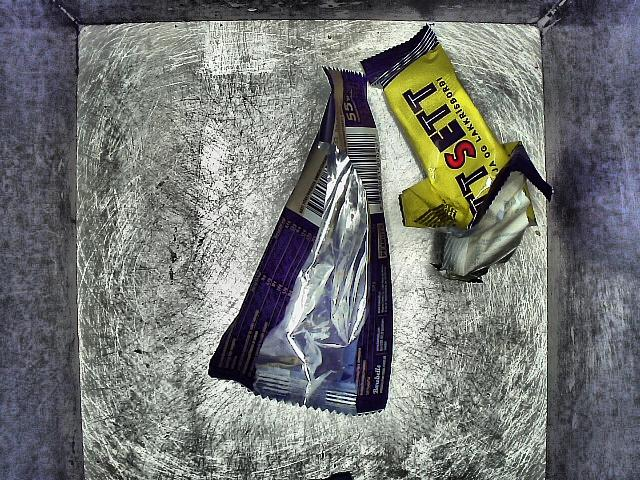Plastic: (220, 25, 543, 412)
